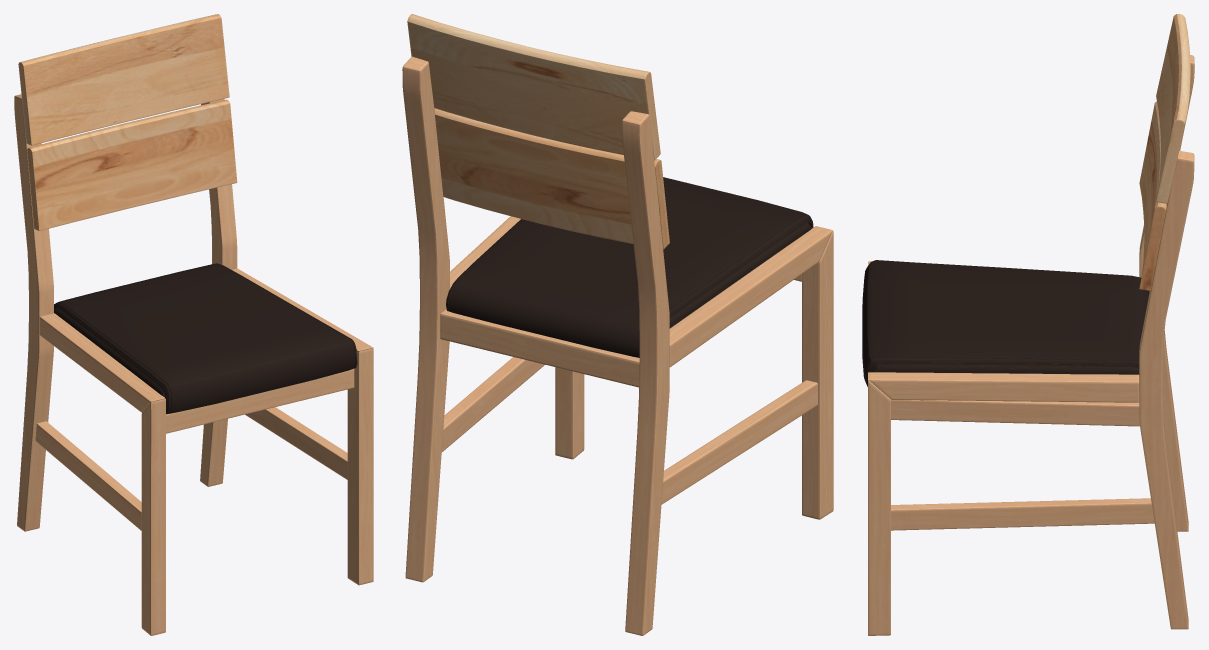
3 views of the same model, side by side, from view 1: azimuth 30°, elevation 25°; view 2: azimuth 150°, elevation 25°; view 3: azimuth 270°, elevation 25° (orthographic). The views are drawn at different scales.
Visible parts, largest first — view 1: B07K7NV52J; view 2: B07K7NV52J; view 3: B07K7NV52J.
Part boxes in pixels (box(x1,y1,x2,y2)): B07K7NV52J: box(14, 14, 373, 635); B07K7NV52J: box(402, 14, 833, 635); B07K7NV52J: box(862, 14, 1194, 635).
Bounding box in the file's own units: 0.475 × 0.95 × 0.5605.
1 material, 1 textured.
